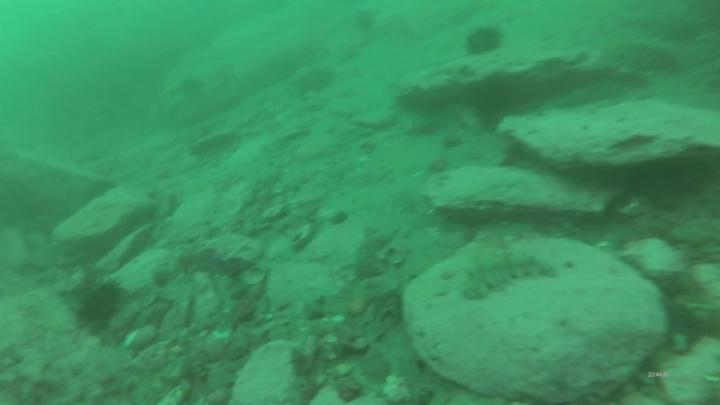echinus: (74, 283, 129, 334), (460, 23, 507, 61), (173, 73, 206, 103), (349, 10, 375, 37)
holothurian: (460, 253, 558, 305)
